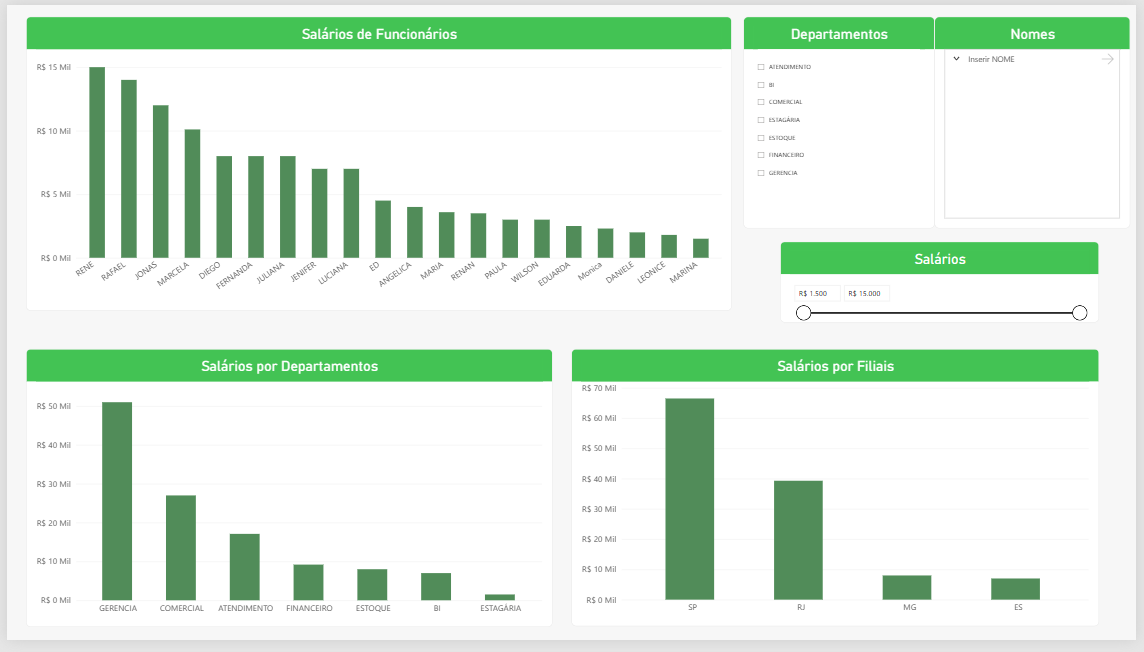

This screenshot's page, from the dashboard's own definition file:
{"tool":"powerbi","page":{"name":"Página 1","canvas":[1920,1080],"ordinal":0},"visuals":[{"type":"columnChart","title":"Salários de Funcionários","fields":{"Category":["tb_rh.NOME"],"Y":["Sum(tb_rh.SALARIO)"]},"box":[32.5,20,1200,500],"z":0},{"type":"columnChart","title":"Salário por Filial","fields":{"Category":["tb_rh.FILIAL"],"Y":["Sum(tb_rh.SALARIO)"]},"box":[960,585,897.1,471.4],"z":1000},{"type":"clusteredColumnChart","title":"Salário por Departamento","fields":{"Category":["tb_rh.DEPARTAMENTO"],"Y":["Sum(tb_rh.SALARIO)"]},"box":[32.5,585,895,472.5],"z":2000},{"type":"slicer","title":"Departamentos","fields":{"Values":["tb_rh.DEPARTAMENTO"]},"box":[1252.5,20,325,360],"z":3000},{"type":"slicer","title":"Salário","fields":{"Values":["tb_rh.SALARIO"]},"box":[1315,402.5,542.5,137.5],"z":4000},{"type":"textSlicer","title":"Nomes","fields":{"Values":["tb_rh.NOME"]},"box":[1577.5,20,332.5,360],"z":5000}]}

Visuals, with their boxes in screenshot pixels (x1, y1, x2, y2), scaled from the page's 1920x1080 canvas onto the 1144x652 screenshot:
"Salários de Funcionários" columnChart: l=19, t=12, r=734, b=314
"Salário por Filial" columnChart: l=572, t=353, r=1107, b=638
"Salário por Departamento" clusteredColumnChart: l=19, t=353, r=553, b=638
"Departamentos" slicer: l=746, t=12, r=940, b=229
"Salário" slicer: l=784, t=243, r=1107, b=326
"Nomes" textSlicer: l=940, t=12, r=1138, b=229
